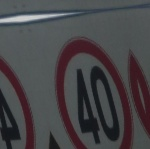Speed limit: (40, 29, 136, 148)
